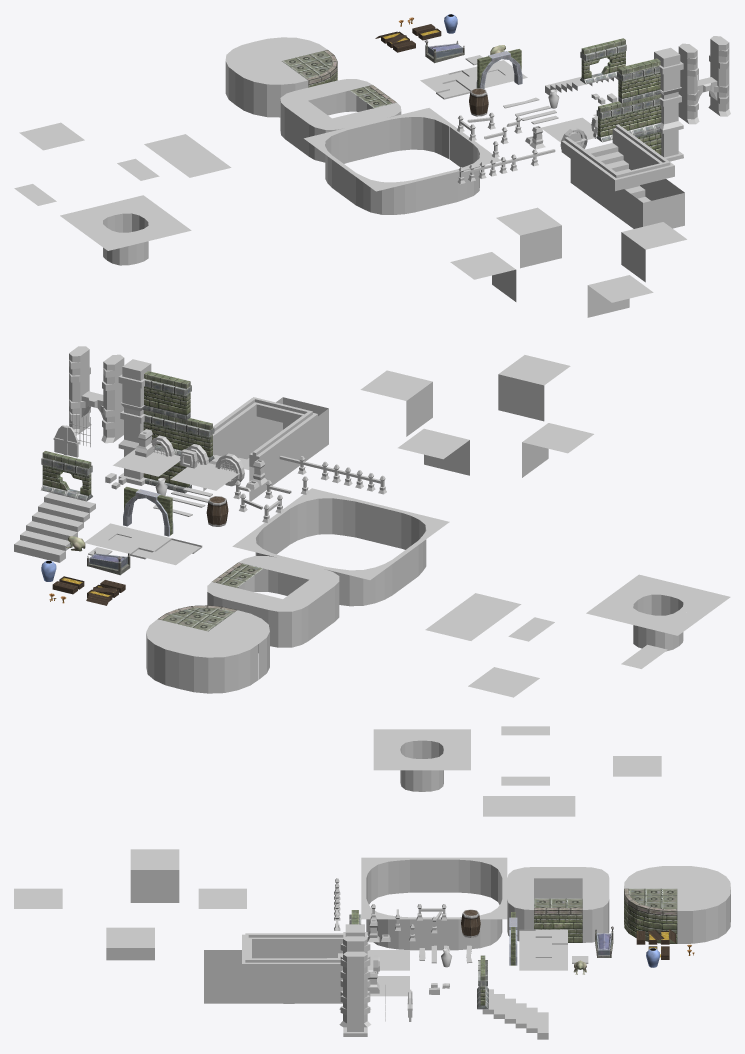
The model's file is donjon.fbx.
3 views of the same model, one above another, from view 1: azimuth 30°, elevation 25°; view 2: azimuth 150°, elevation 25°; view 3: azimuth 270°, elevation 25° (orthographic). The views are drawn at different scales.
Visible parts, largest first — view 1: Cube.067, Cube.032, Cube.019, Cube.018, Cube.014, Cube.030, Cube.031, pass.001, wall_up, Cube.020, Cube.026, wall_down.001 (+32 smaller); view 2: Cube.067, Cube.037, Cube, Cube.031, Cube.001, Cube.038, Cube.030, Cube.019, Cube.017, pass.001, wall_up, wall_down.001 (+37 smaller); view 3: Cube.067, Cube.038, Cube.020, Cube.039, Cube.017, Cube.014, Cube.021, Cube.007, Cube.030, Cube, pass.001, Cube.011 (+23 smaller).
Part boxes in pixels (left/top/right/bottom): Cube.067: left=561, top=124, right=684, bottom=228; Cube.032: left=235, top=61, right=308, bottom=117; Cube.019: left=496, top=207, right=561, bottom=268; Cube.018: left=388, top=108, right=452, bottom=158; Cube.014: left=352, top=173, right=417, bottom=214; Cube.030: left=621, top=222, right=686, bottom=282; Cube.031: left=587, top=275, right=653, bottom=317; pass.001: left=678, top=36, right=729, bottom=89; wall_up: left=617, top=58, right=661, bottom=103; Cube.020: left=450, top=252, right=516, bottom=301; Cube.026: left=345, top=118, right=389, bottom=162; wall_down.001: left=580, top=38, right=626, bottom=84; Cube.067: left=203, top=397, right=328, bottom=501; Cube.037: left=179, top=631, right=258, bottom=693; Cube: left=14, top=492, right=95, bottom=562; Cube.031: left=498, top=355, right=570, bottom=421; Cube.001: left=285, top=488, right=357, bottom=544; Cube.038: left=146, top=619, right=207, bottom=688; Cube.030: left=360, top=370, right=432, bottom=436; Cube.019: left=398, top=428, right=469, bottom=475; Cube.017: left=325, top=559, right=396, bottom=606; pass.001: left=69, top=346, right=124, bottom=405; wall_up: left=143, top=371, right=191, bottom=420; wall_down.001: left=41, top=451, right=92, bottom=501; Cube.067: left=204, top=933, right=343, bottom=1003; Cube.038: left=677, top=888, right=730, bottom=943; Cube.020: left=130, top=849, right=179, bottom=902; Cube.039: left=624, top=888, right=677, bottom=943; Cube.017: left=458, top=857, right=507, bottom=904; Cube.014: left=361, top=857, right=409, bottom=904; Cube.021: left=410, top=857, right=458, bottom=892; Cube.007: left=534, top=898, right=582, bottom=942; Cube.030: left=106, top=927, right=154, bottom=960; Cube: left=482, top=989, right=548, bottom=1039; pass.001: left=340, top=936, right=370, bottom=994; Cube.011: left=534, top=867, right=582, bottom=898.
Size of the model in its own units: 58.6 by 9.41 by 59.
